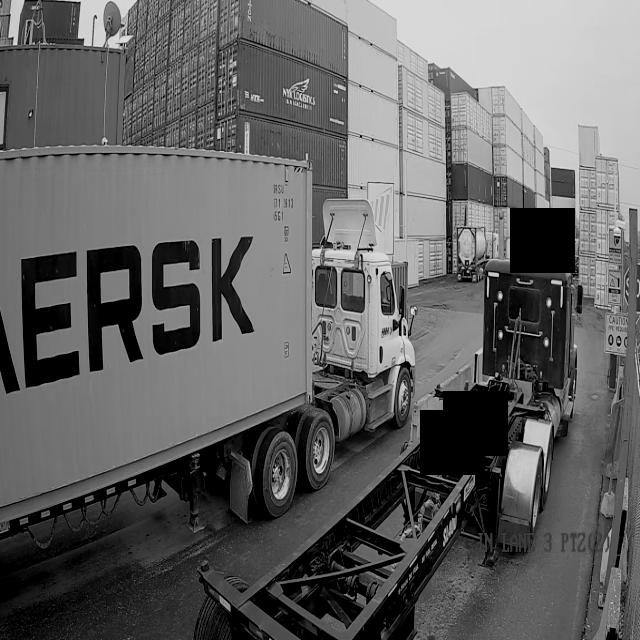container_company_logo: (0, 211, 264, 406)
container_side_no: (267, 175, 294, 227)
truck_with_container: (0, 145, 415, 538)
truck_without_container: (194, 256, 582, 640)
